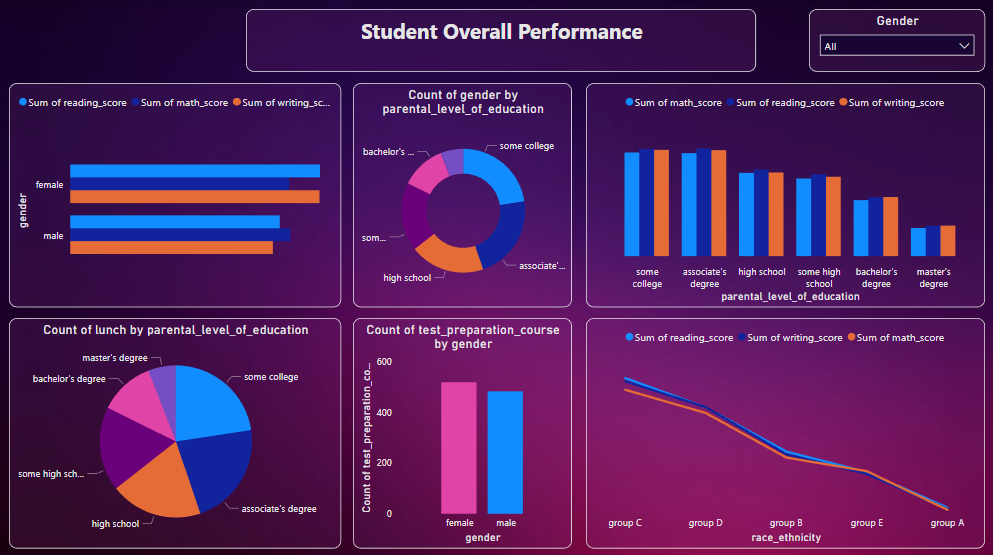

What the dashboard file says about the page in this screenshot:
{"tool":"powerbi","page":{"name":"Page 1","canvas":[1280,720],"ordinal":0},"visuals":[{"type":"lineChart","fields":{"Category":["stud.race_ethnicity"],"Y":["Sum(stud.reading_score)","Sum(stud.writing_score)","Sum(stud.math_score)"]},"box":[754.2,409.9,514,297.3],"z":0},{"type":"textbox","box":[317.5,11.8,656.8,80.6],"z":1},{"type":"columnChart","fields":{"Category":["stud.gender"],"Y":["CountNonNull(stud.test_preparation_course)"]},"box":[455.2,409.9,282.2,297.3],"z":2},{"type":"slicer","title":"Gender","fields":{"Values":["stud.gender"]},"box":[1041.5,11.8,226.8,80.6],"z":3},{"type":"donutChart","fields":{"Category":["stud.parental_level_of_education"],"Y":["CountNonNull(stud.gender)"]},"box":[455.2,107.5,282.2,288.9],"z":4},{"type":"pieChart","fields":{"Y":["CountNonNull(stud.lunch)"],"Category":["stud.parental_level_of_education"]},"box":[11.8,409.9,428.3,297.3],"z":5},{"type":"clusteredColumnChart","fields":{"Y":["Sum(stud.math_score)","Sum(stud.reading_score)","Sum(stud.writing_score)"],"Category":["stud.parental_level_of_education"]},"box":[754.2,107.5,514,288.9],"z":6},{"type":"clusteredBarChart","fields":{"Category":["stud.gender"],"Y":["Sum(stud.reading_score)","Sum(stud.math_score)","Sum(stud.writing_score)"]},"box":[11.8,107.5,428.3,288.9],"z":7}]}

Visuals, with their boxes in screenshot pixels (x1, y1, x2, y2), scaled from the page's 1280x720 canvas onto the 993x555 screenshot:
lineChart - stud.race_ethnicity x Sum(stud.reading_score): (x1=585, y1=316, x2=984, y2=545)
textbox: (x1=246, y1=9, x2=756, y2=71)
columnChart - stud.gender x CountNonNull(stud.test_preparation_course): (x1=353, y1=316, x2=572, y2=545)
"Gender" slicer: (x1=808, y1=9, x2=984, y2=71)
donutChart - stud.parental_level_of_education x CountNonNull(stud.gender): (x1=353, y1=83, x2=572, y2=306)
pieChart - CountNonNull(stud.lunch) x stud.parental_level_of_education: (x1=9, y1=316, x2=341, y2=545)
clusteredColumnChart - Sum(stud.math_score) x Sum(stud.reading_score): (x1=585, y1=83, x2=984, y2=306)
clusteredBarChart - stud.gender x Sum(stud.reading_score): (x1=9, y1=83, x2=341, y2=306)
